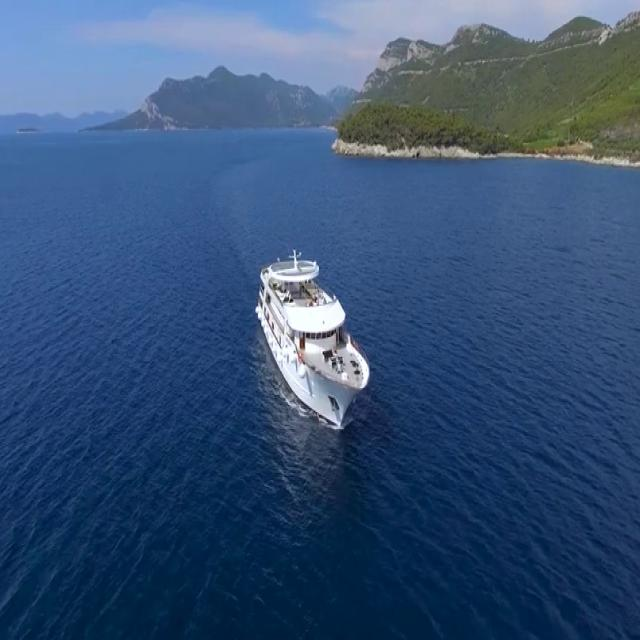passenger ship: (256, 246, 379, 427)
